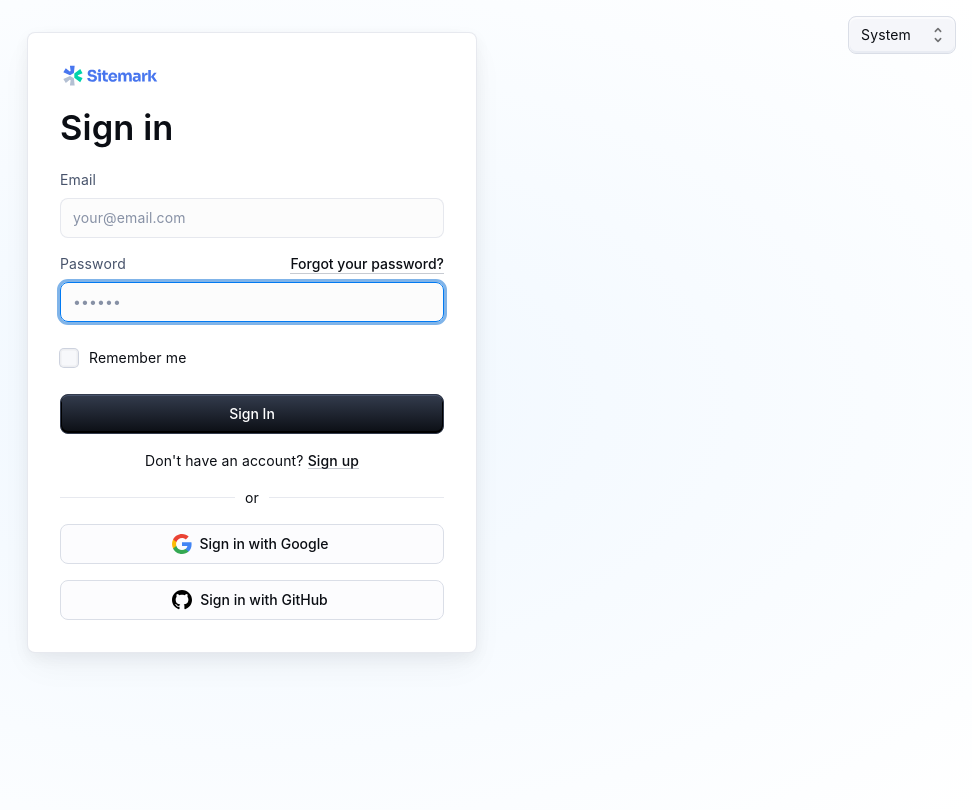
Test: SignIn Component › navigates to the Sign Up page when the link is clicked
Step 1. Click the link "Sign up" → (333, 460), box [308,452,359,469]
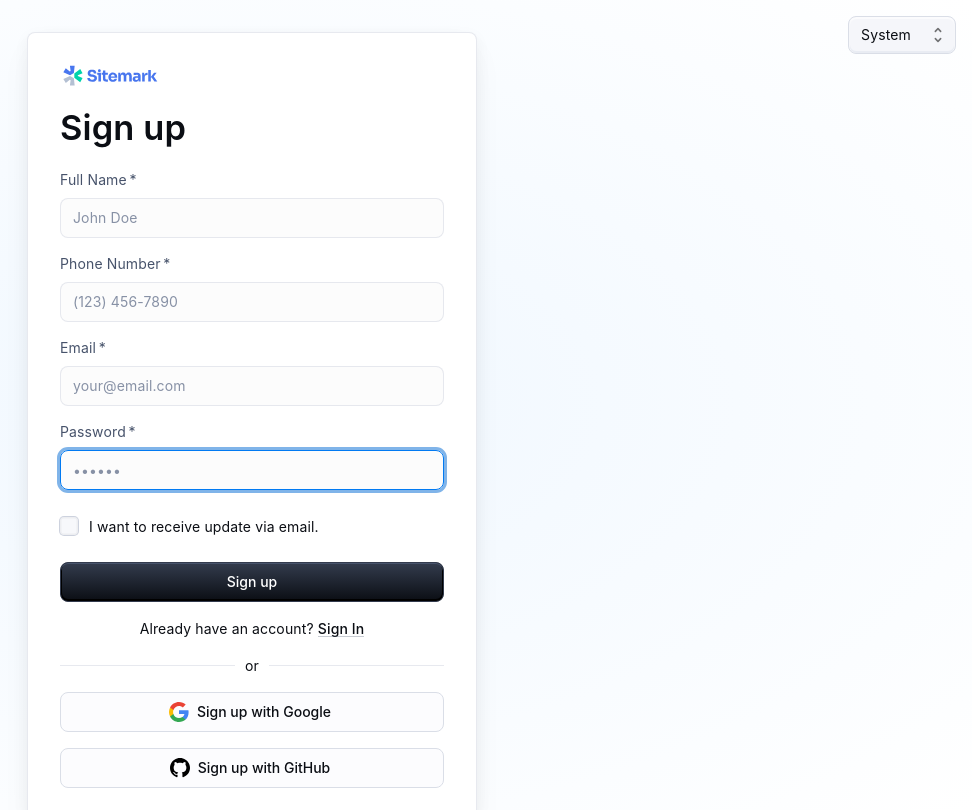
Check: the heading "Sign up" is shown, box [60,107,186,148]
